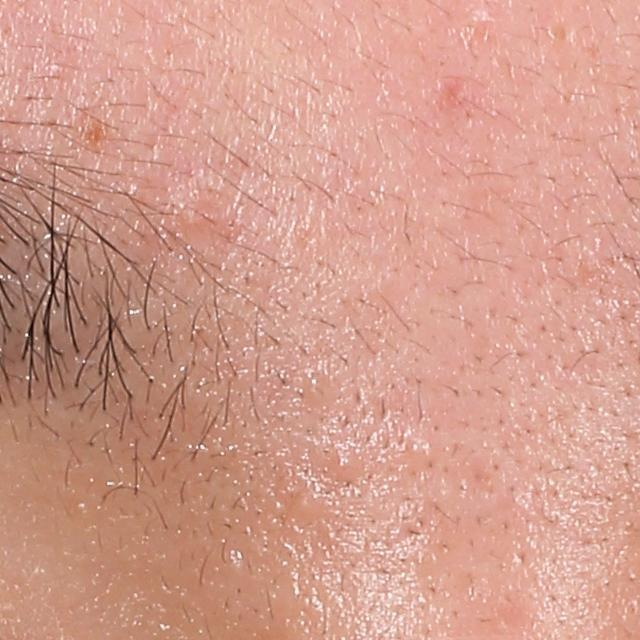comedo: (286, 484, 327, 527), (324, 448, 354, 480)
